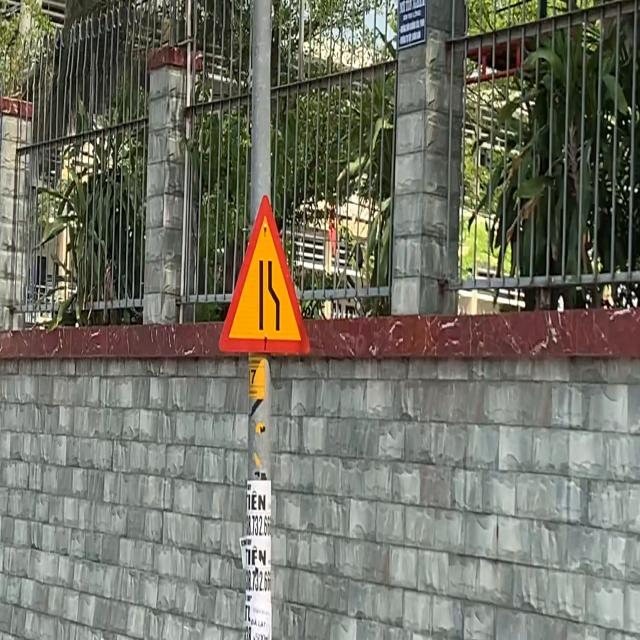Nguy hiem: (212, 186, 316, 370)
